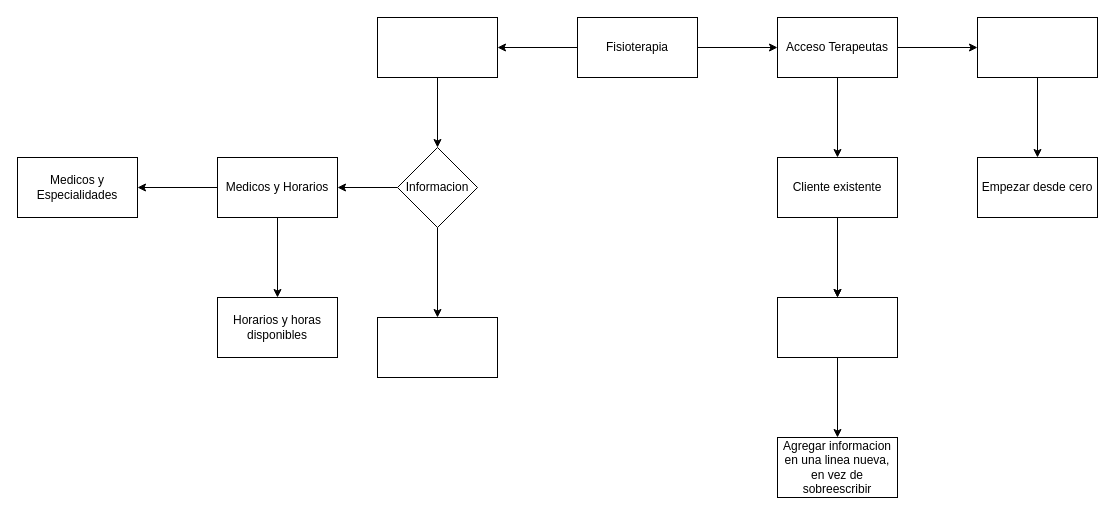
The diagram is 1115 pixels wide and 515 high, and some of its shapes have lost their labels. The centre of each missing label's shape, as x and y in pixels:
"Acceso Servicio al cliente" belongs at point (437, 47).
"Cliente Nuevo" belongs at point (1037, 47).
"Servicios" belongs at point (437, 347).
"Ver expediente" belongs at point (837, 327).
